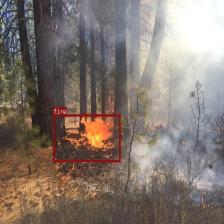fire: (53, 114, 120, 161)
